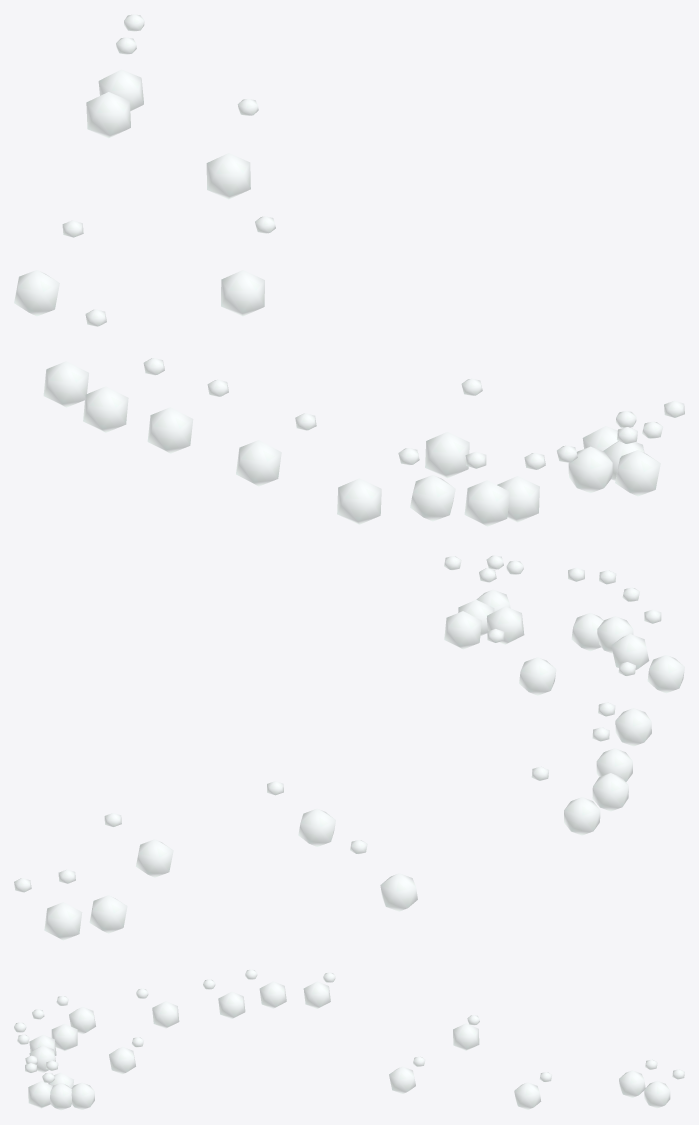
Rendered from model_chunk_6.glb.
The picture shows the model from 3 angles, top to bottom: view 1: azimuth 30°, elevation 25°; view 2: azimuth 150°, elevation 25°; view 3: azimuth 270°, elevation 25°; orthographic projection. The views are drawn at different scales.
Visible parts, largest first — view 1: SplashParticle01511, SplashParticle01513, SplashParticle01373, SplashParticle01372, SplashParticle01496, SplashParticle01369, SplashParticle01414, SplashParticle01454, SplashParticle01385, SplashParticle01421, SplashParticle01469, SplashParticle01402 (+6 smaller); view 2: SplashParticle01438, SplashParticle01516, SplashParticle01385, SplashParticle01372, SplashParticle01373, SplashParticle01454, SplashParticle01513, SplashParticle01421, SplashParticle01469, SplashParticle01496, SplashParticle01511, SplashParticle01402 (+6 smaller); view 3: SplashParticle01385, SplashParticle01469, SplashParticle01369, SplashParticle01454, SplashParticle01516, SplashParticle01372, SplashParticle01402, SplashParticle01511, SplashParticle01513, SplashParticle01496, SplashParticle01421, SplashParticle01373 (+6 smaller).
Boxes of the visible parts, x1,y1,x2,y2 form: SplashParticle01511: (206,98,258,199); SplashParticle01513: (86,37,136,138); SplashParticle01373: (337,448,419,524); SplashParticle01372: (83,358,164,432); SplashParticle01496: (221,216,275,316); SplashParticle01369: (147,379,228,453); SplashParticle01414: (464,452,545,526); SplashParticle01454: (43,309,106,407); SplashParticle01385: (236,413,316,486); SplashParticle01421: (425,378,482,478); SplashParticle01469: (14,220,83,316); SplashParticle01402: (410,451,486,521); SplashParticle01438: (444,568,496,649); SplashParticle01516: (14,878,82,940); SplashParticle01385: (615,662,651,746); SplashParticle01372: (592,727,628,811); SplashParticle01373: (644,609,684,693); SplashParticle01454: (531,766,600,835); SplashParticle01513: (58,869,127,933); SplashParticle01421: (487,629,556,695); SplashParticle01469: (350,840,417,911); SplashParticle01496: (267,781,335,846); SplashParticle01511: (104,813,173,877); SplashParticle01402: (611,587,649,669); SplashParticle01385: (136,988,179,1028); SplashParticle01469: (453,1015,479,1050); SplashParticle01369: (203,979,245,1018); SplashParticle01454: (303,972,335,1008); SplashParticle01516: (644,1069,684,1108); SplashParticle01372: (245,969,286,1008); SplashParticle01402: (32,1009,77,1051); SplashParticle01511: (514,1072,552,1109); SplashParticle01513: (619,1059,657,1097); SplashParticle01496: (389,1056,425,1093); SplashParticle01421: (109,1037,143,1074); SplashParticle01373: (56,996,95,1034).
Size of the model in its own units: 0.4149 by 0.1051 by 0.9869.
1 material, 1 textured.
